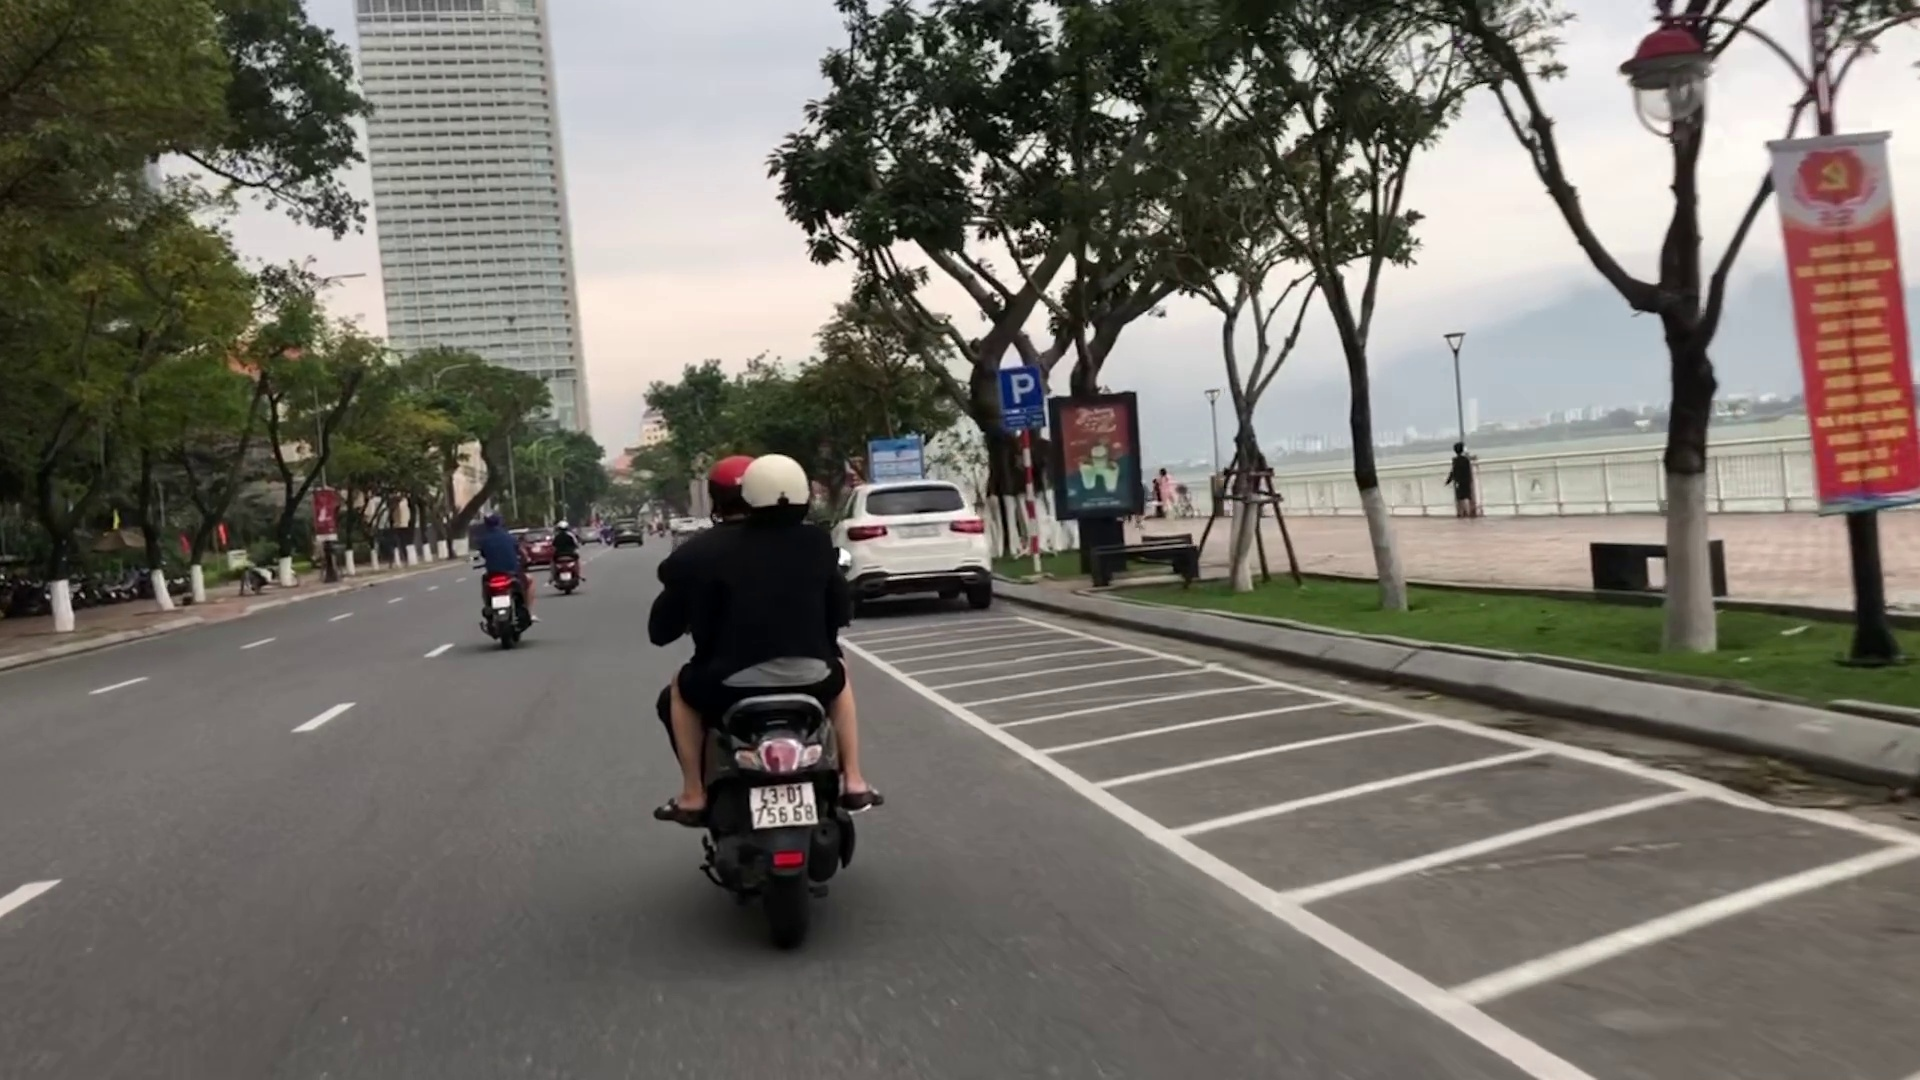Bien khac: (996, 363, 1047, 419)
